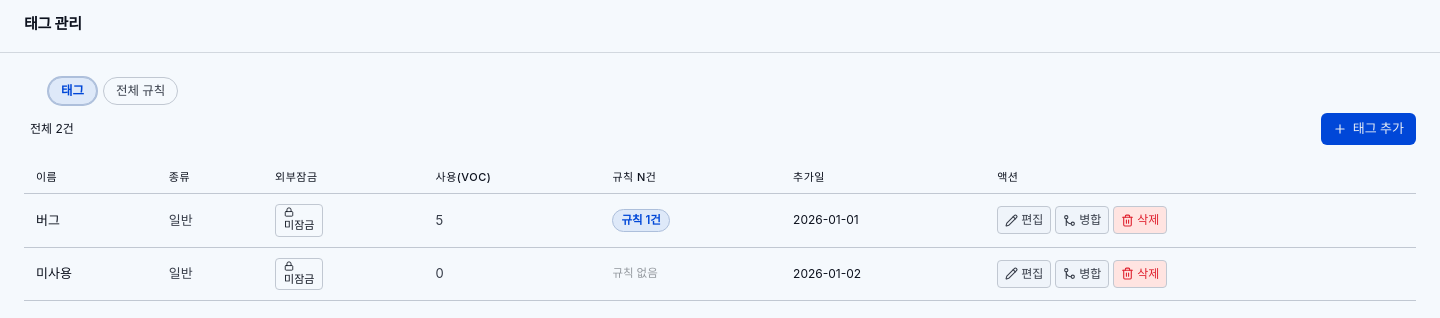
Scenario: AdminTagsPage Plan 07 › clicking 전체 규칙 tab switches view to rules and renders flat table
Click the tab with test id "tab-view-rules" at (141, 91), box [103,77,178,105]
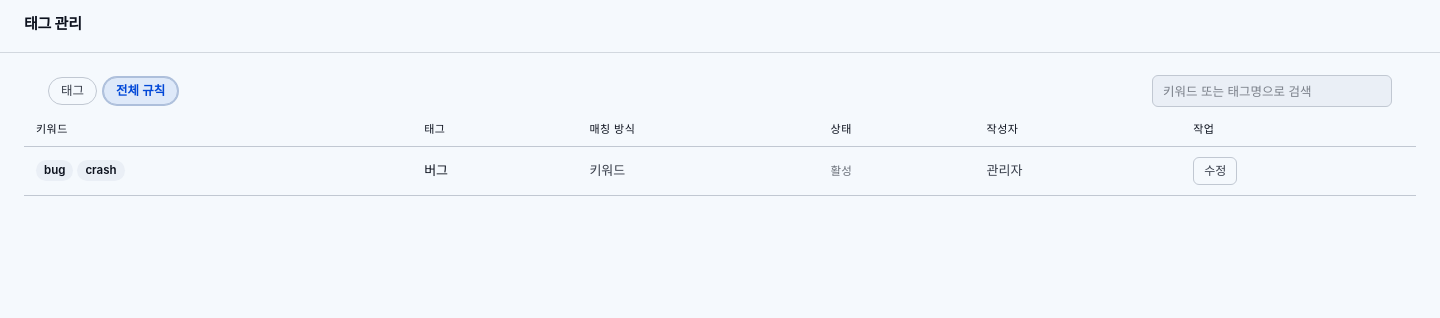
Now the search field with test id "flat-search-input" is shown, box [1152,75,1392,107]
Now the row with test id "flat-rule-row-rule-001" is shown, box [24,146,1416,195]
